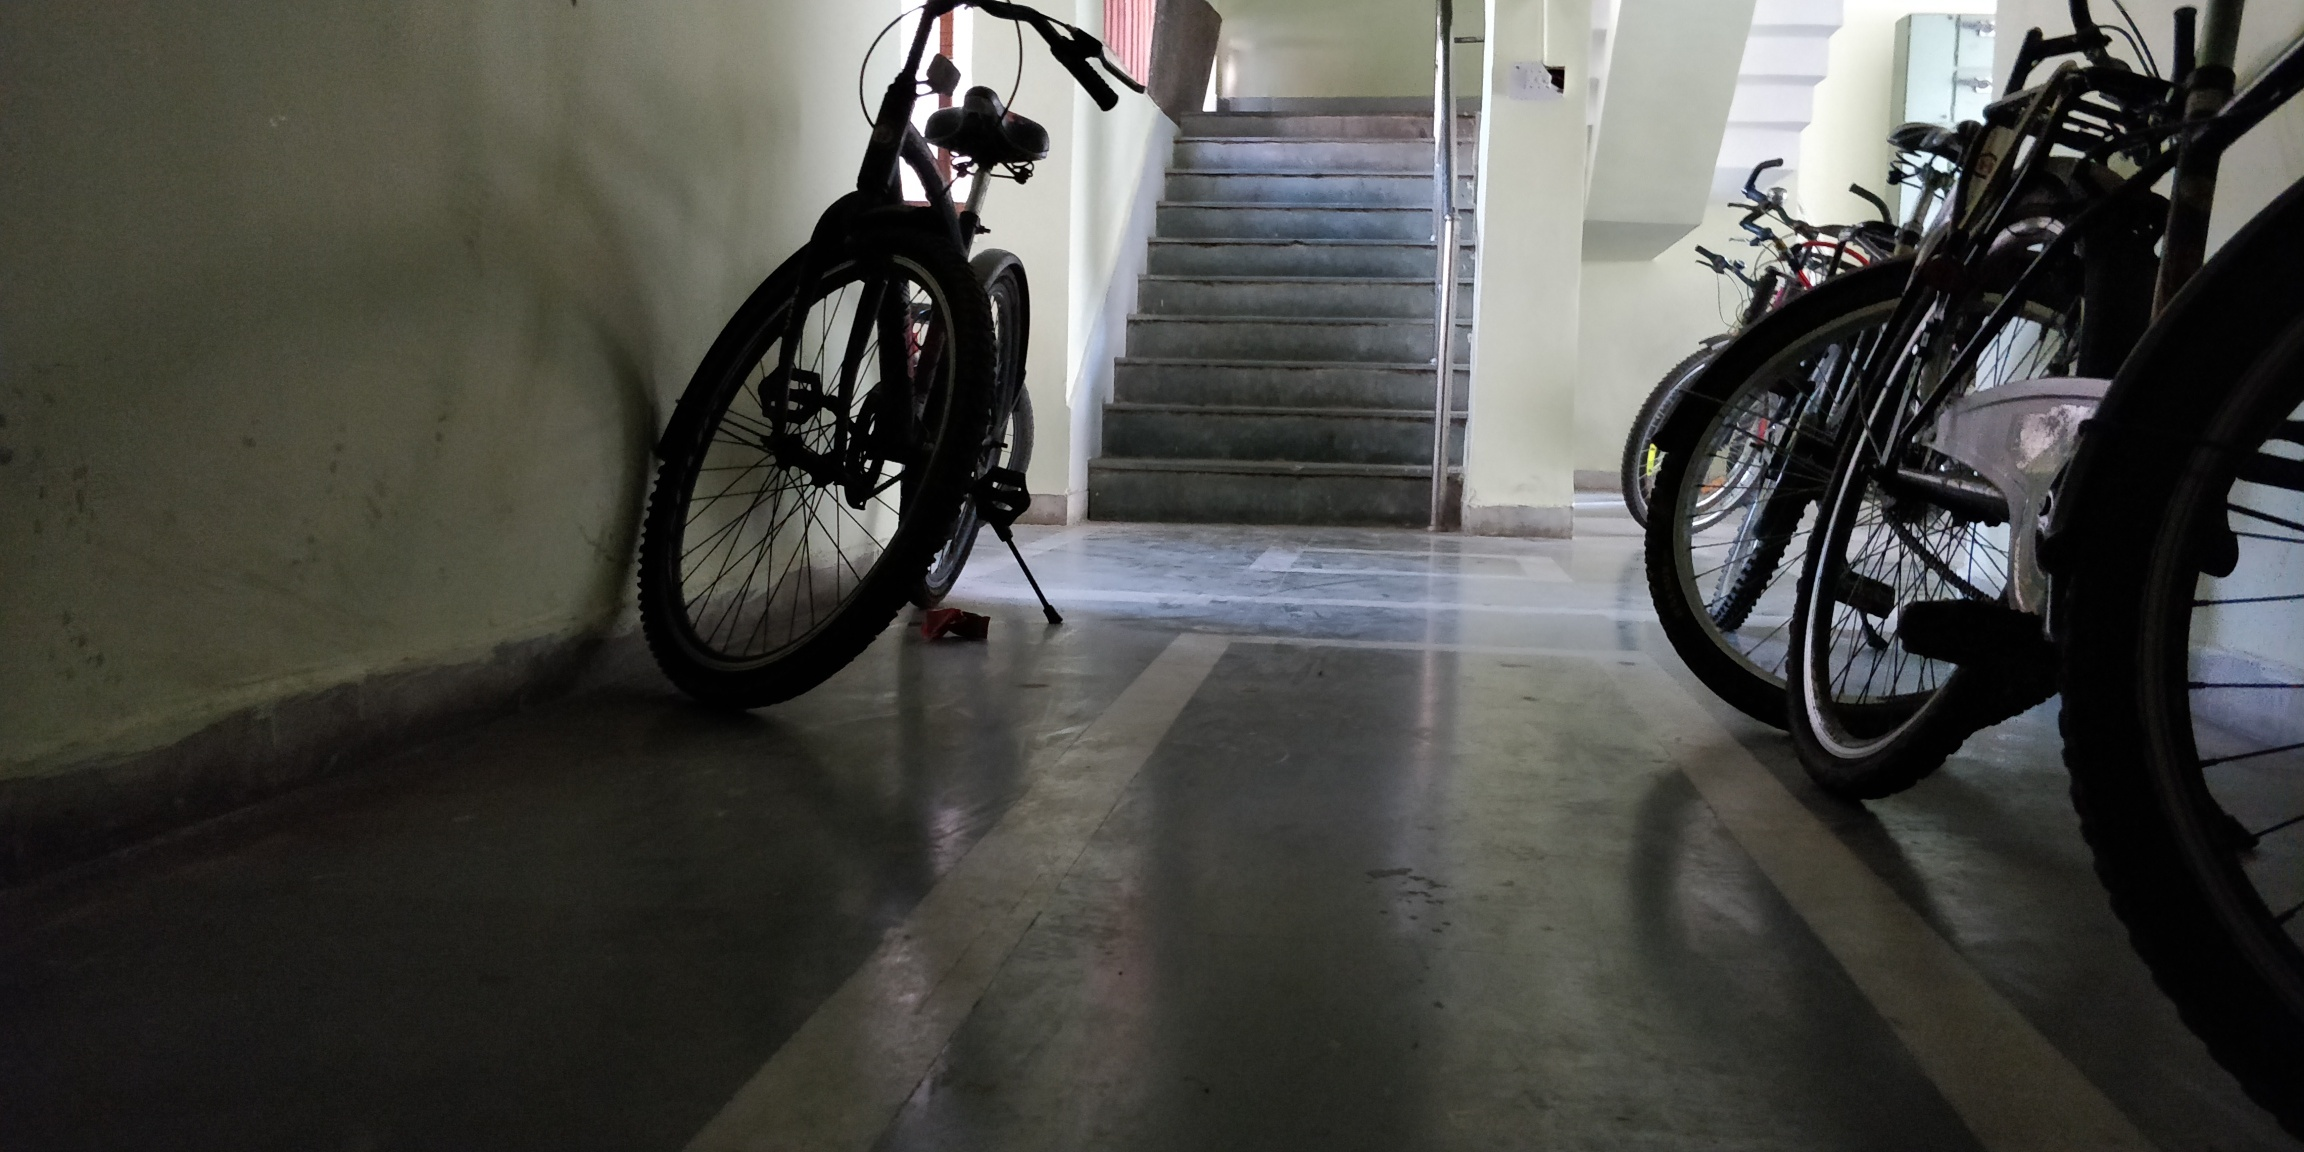stairs_up: (1084, 109, 1471, 511)
